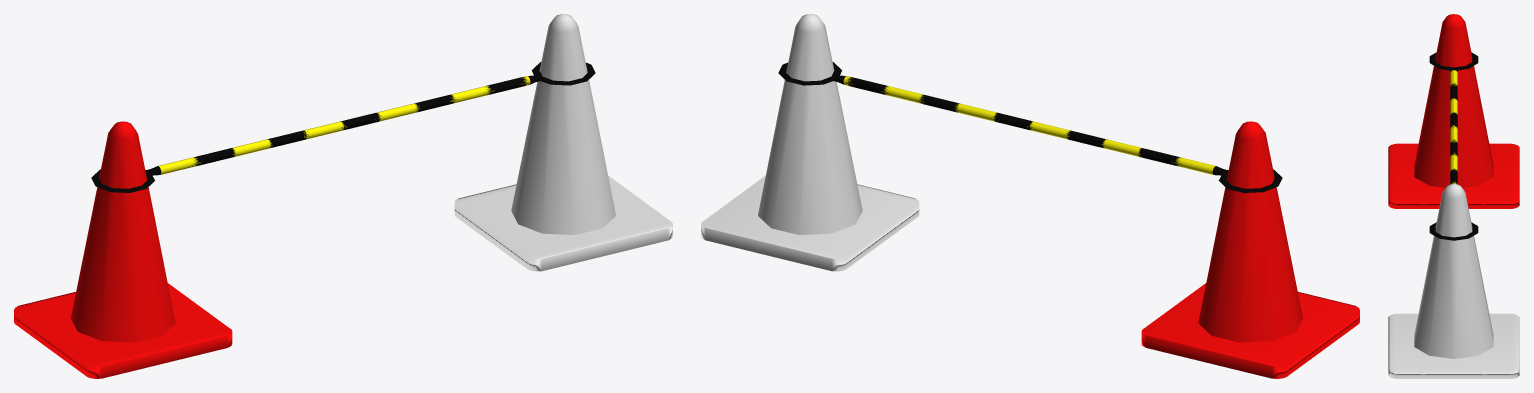
File: Corm.fbx
3 renders of one model, left to right at view 1: azimuth 30°, elevation 25°; view 2: azimuth 150°, elevation 25°; view 3: azimuth 270°, elevation 25°, orthographic. The views are drawn at different scales.
Parts seen in each view (by area): view 1: OBJ_leftCorn, OBJ_rightCorn, OBJ_Pole; view 2: OBJ_leftCorn, OBJ_rightCorn, OBJ_Pole; view 3: OBJ_rightCorn, OBJ_leftCorn, OBJ_Pole.
Part boxes in pixels (x1,y1,x2,y2): OBJ_leftCorn: (14, 121, 232, 378); OBJ_rightCorn: (454, 14, 672, 271); OBJ_Pole: (91, 62, 595, 192); OBJ_leftCorn: (1141, 121, 1359, 378); OBJ_rightCorn: (701, 14, 919, 271); OBJ_Pole: (778, 62, 1282, 192); OBJ_rightCorn: (1388, 184, 1519, 378); OBJ_leftCorn: (1388, 14, 1519, 208); OBJ_Pole: (1429, 52, 1478, 240).
Bounding box in the file's own units: 23.9 × 8.26 × 5.88.
3 materials, 2 textured.
